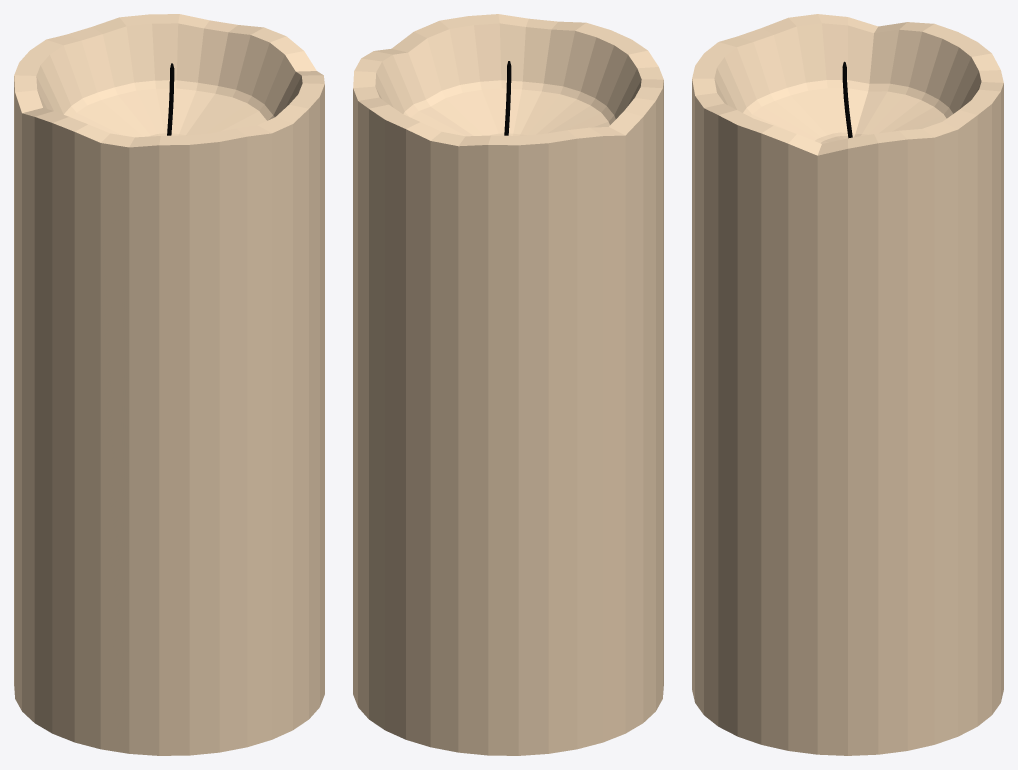
Rendered from Candle_002.fbx.
The picture shows the model from 3 angles, left to right: view 1: azimuth 30°, elevation 25°; view 2: azimuth 150°, elevation 25°; view 3: azimuth 270°, elevation 25°; orthographic projection.
Visible parts, largest first — view 1: Candle.002; view 2: Candle.002; view 3: Candle.002.
Boxes of the visible parts, x1,y1,x2,y2 form: Candle.002: [14, 14, 324, 755]; Candle.002: [353, 14, 663, 755]; Candle.002: [692, 14, 1003, 755].
Bounding box in the file's own units: 20 × 44.47 × 20.
